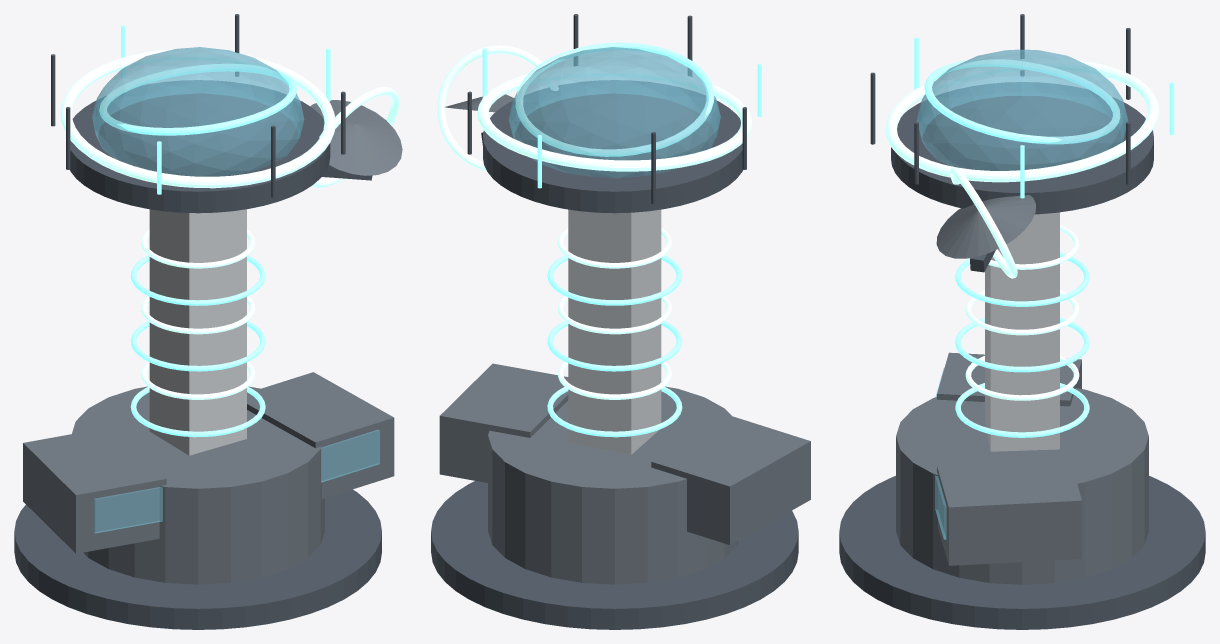
File: research-observatory-lod0.30937e347efd.glb
3 renders of one model, left to right at view 1: azimuth 30°, elevation 25°; view 2: azimuth 150°, elevation 25°; view 3: azimuth 270°, elevation 25°, orthographic.
Parts seen in each view (by area): view 1: research_drum, crown_lower, observatory_base, observation_chamber, research_spine, research_side_pod_-1, research_side_pod_1, crown_outer_ring, sensor_dish_core, crown_sensor_ring, research_side_glass_-1, research_side_glass_1 (+7 smaller); view 2: research_drum, crown_lower, observatory_base, observation_chamber, research_spine, research_side_pod_-1, research_side_pod_1, crown_outer_ring, crown_sensor_ring, sensor_dish_rim, spine_sensor_ring_3, spine_sensor_ring_1 (+4 smaller); view 3: research_drum, observatory_base, crown_lower, observation_chamber, research_side_pod_1, research_spine, crown_outer_ring, sensor_dish_core, crown_sensor_ring, research_side_pod_-1, sensor_dish_rim, spine_sensor_ring_3 (+5 smaller).
Part boxes in pixels (x1=…): research_drum: x1=72, y1=386, x2=324, y2=584; crown_lower: x1=70, y1=80, x2=330, y2=213; observatory_base: x1=14, y1=489, x2=381, y2=629; observation_chamber: x1=92, y1=47, x2=304, y2=176; research_spine: x1=149, y1=209, x2=246, y2=455; research_side_pod_-1: x1=23, y1=426, x2=166, y2=553; research_side_pod_1: x1=247, y1=372, x2=394, y2=498; crown_outer_ring: x1=60, y1=49, x2=335, y2=188; sensor_dish_core: x1=310, y1=100, x2=402, y2=175; crown_sensor_ring: x1=99, y1=63, x2=296, y2=135; research_side_glass_-1: x1=94, y1=487, x2=162, y2=533; research_side_glass_1: x1=321, y1=429, x2=379, y2=482; research_drum: x1=488, y1=386, x2=738, y2=584; crown_lower: x1=483, y1=80, x2=742, y2=213; observatory_base: x1=431, y1=481, x2=798, y2=629; observation_chamber: x1=509, y1=47, x2=720, y2=178; research_spine: x1=568, y1=209, x2=661, y2=454; research_side_pod_-1: x1=651, y1=416, x2=810, y2=544; research_side_pod_1: x1=439, y1=363, x2=568, y2=482; crown_outer_ring: x1=477, y1=65, x2=752, y2=171; crown_sensor_ring: x1=515, y1=42, x2=714, y2=156; sensor_dish_rim: x1=437, y1=45, x2=558, y2=170; spine_sensor_ring_3: x1=547, y1=321, x2=682, y2=371; spine_sensor_ring_1: x1=547, y1=387, x2=682, y2=437; research_drum: x1=896, y1=388, x2=1148, y2=584; observatory_base: x1=839, y1=476, x2=1205, y2=629; crown_lower: x1=891, y1=82, x2=1153, y2=214; observation_chamber: x1=916, y1=49, x2=1128, y2=175; research_side_pod_1: x1=937, y1=459, x2=1081, y2=565; research_spine: x1=985, y1=212, x2=1059, y2=451; crown_outer_ring: x1=885, y1=58, x2=1159, y2=182; sensor_dish_core: x1=936, y1=195, x2=1035, y2=258; crown_sensor_ring: x1=924, y1=59, x2=1120, y2=144; research_side_pod_-1: x1=937, y1=352, x2=1081, y2=406; sensor_dish_rim: x1=950, y1=167, x2=1017, y2=278; spine_sensor_ring_3: x1=955, y1=317, x2=1089, y2=372.
Bounding box in the file's own units: 7.72 × 10.43 × 7.1.
